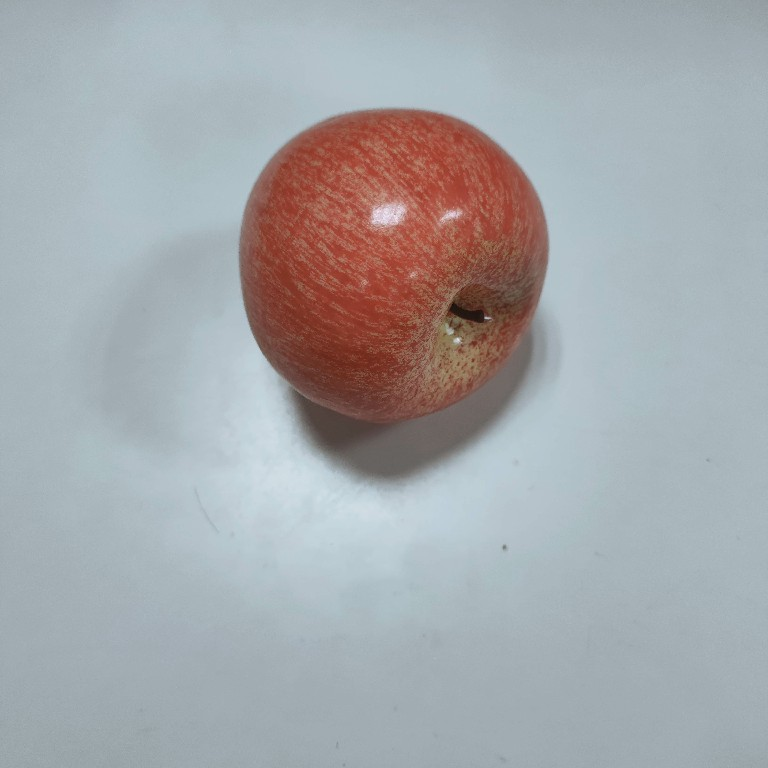fruit_apple: (234, 105, 553, 426)
